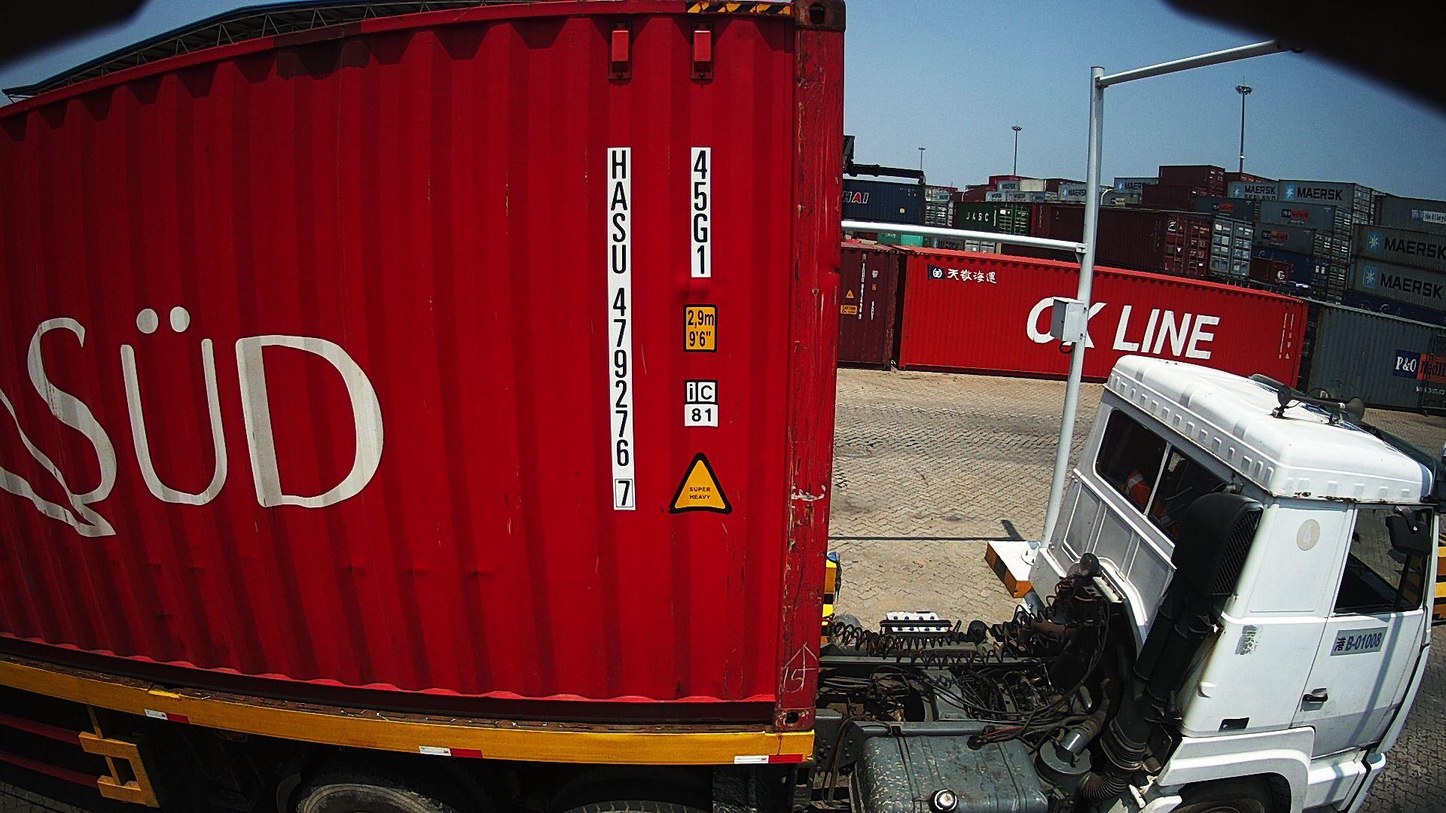container-numbers: (604, 144, 637, 516), (688, 146, 715, 280)
